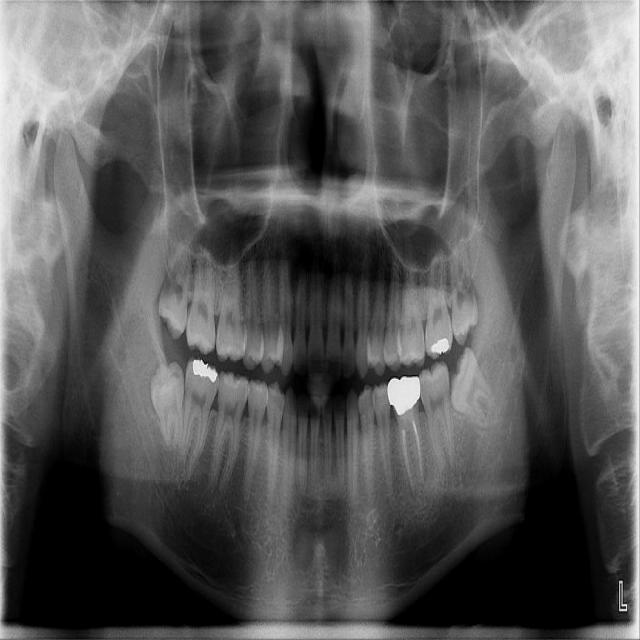Crown: (387, 376, 420, 414)
Filling: (192, 360, 218, 383), (431, 338, 450, 354)
Root Canal Treatment: (411, 425, 423, 477), (404, 431, 414, 489)
impacted tooth: (450, 345, 497, 428), (148, 366, 183, 457)
